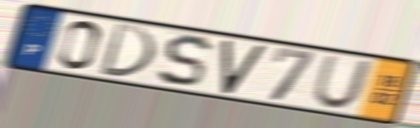0: (57, 19, 102, 71)
7: (269, 46, 319, 103)
D: (96, 21, 157, 81)
S: (155, 33, 214, 89)
U: (310, 53, 375, 111)
V: (220, 39, 270, 96)
